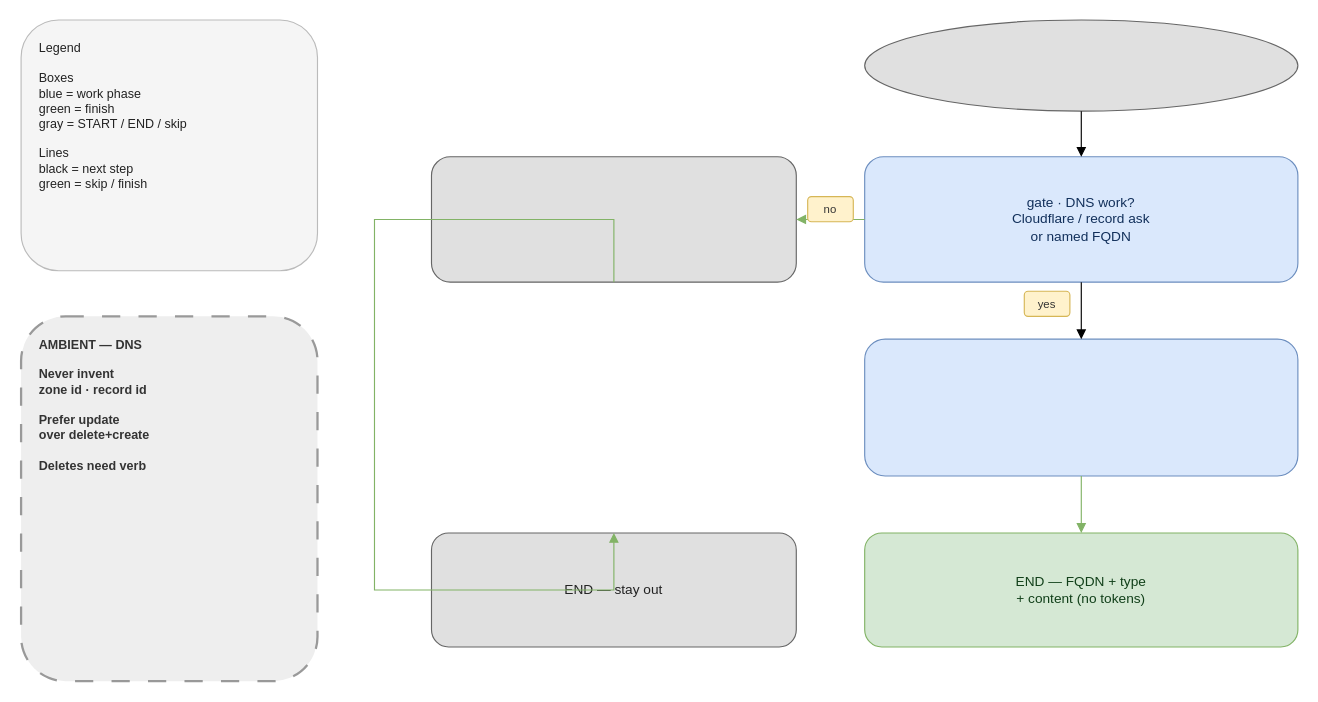
Image size: 1318x702. Some labels were removed from this diagram. Each missing label, with the box of its shape:
list → change create/update via MCP; safety on delete/bulk: (864, 338, 1298, 476)
skip — no DNS ordinary coding; do not touch zones for sport: (430, 156, 796, 282)
START — user ask: (864, 19, 1298, 111)
